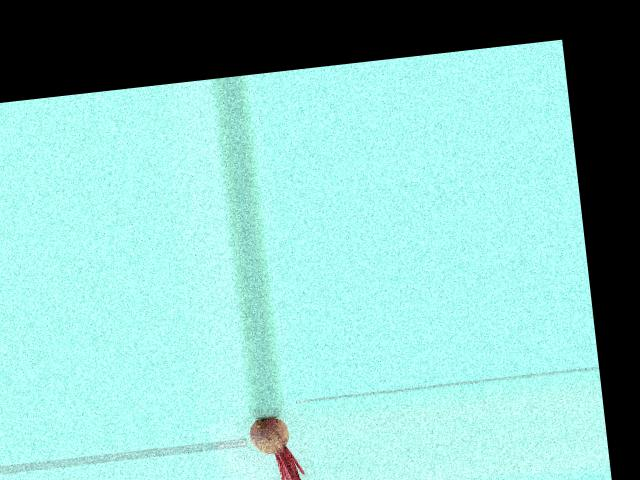beet: (247, 414, 305, 480)
